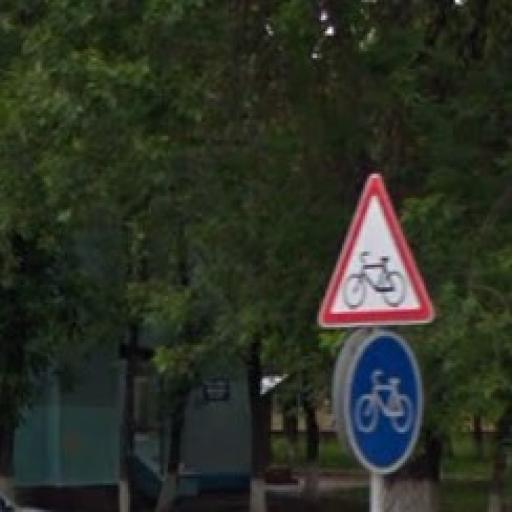traffic_sign: (316, 170, 440, 333), (343, 329, 427, 478)
